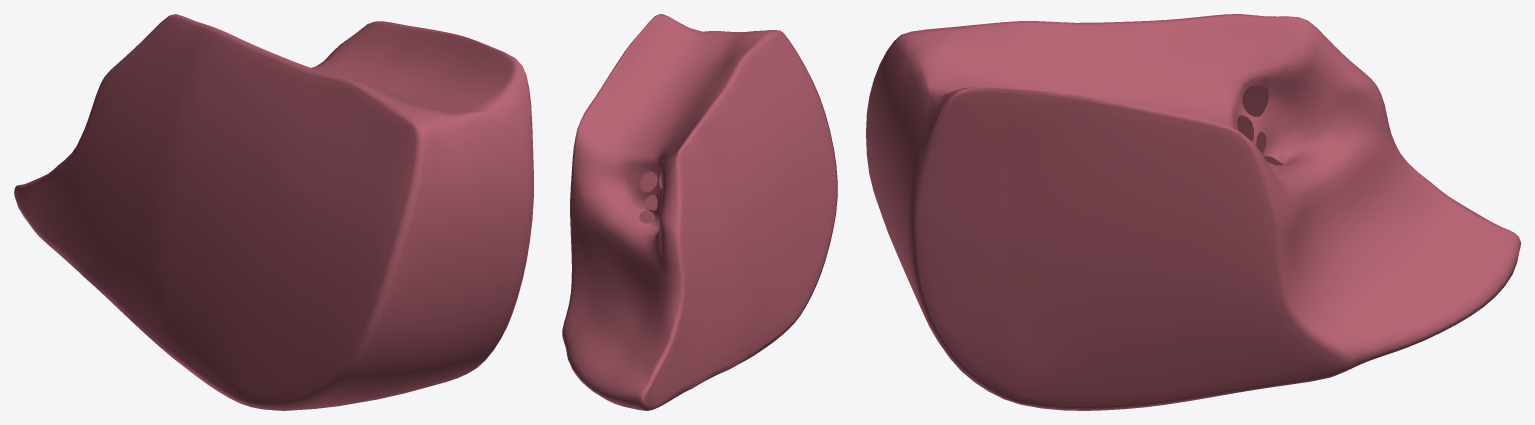
3 views of the same model, side by side, from view 1: azimuth 30°, elevation 25°; view 2: azimuth 150°, elevation 25°; view 3: azimuth 270°, elevation 25° (orthographic). The views are drawn at different scales.
Visible parts, largest first — view 1: 肝左内叶（第4段）; view 2: 肝左内叶（第4段）; view 3: 肝左内叶（第4段）.
Part boxes in pixels (<box>): 肝左内叶（第4段）: <box>14,14,533,410</box>; 肝左内叶（第4段）: <box>562,14,837,410</box>; 肝左内叶（第4段）: <box>866,14,1520,410</box>.
Bounding box in the file's own units: 0.084 × 0.1097 × 0.1854.
